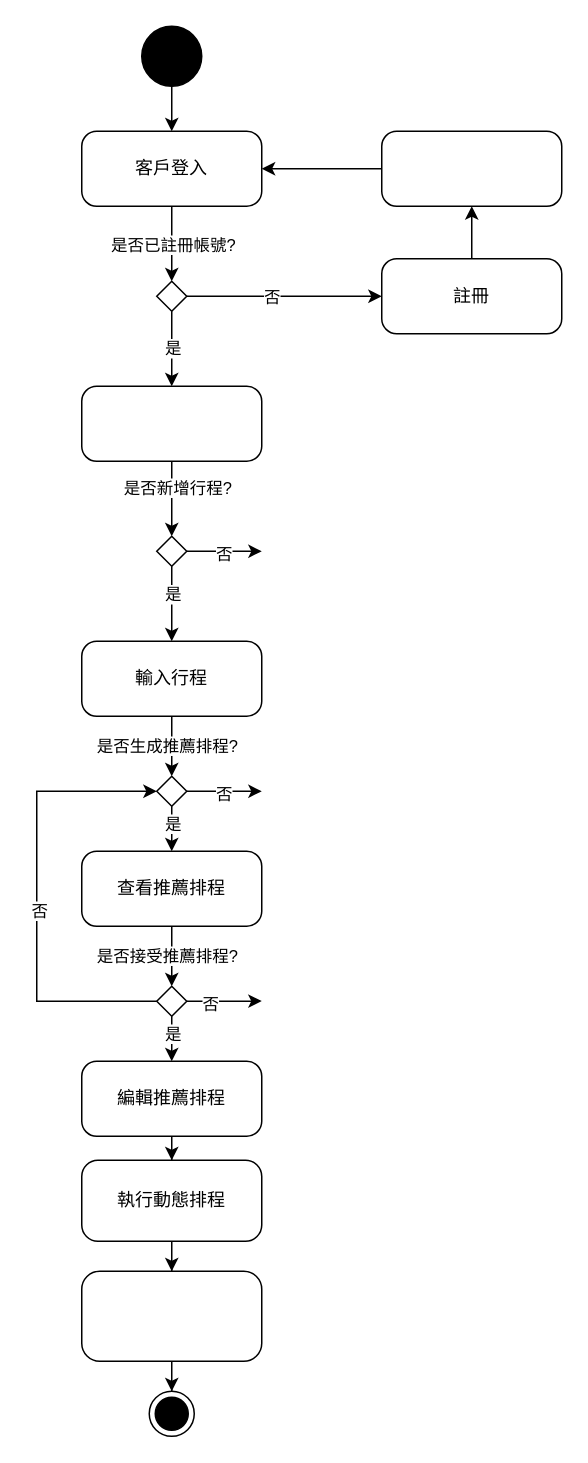
This 588x1463 diagram has some shape labels left out. The shapes that lost their labels are listed below. From the top down, each one's centre as x and y in pixels, then its label:
the point at 471,168: 填寫個性化問卷
the point at 171,423: 查看日程表
the point at 171,1315: 使用者回饋
